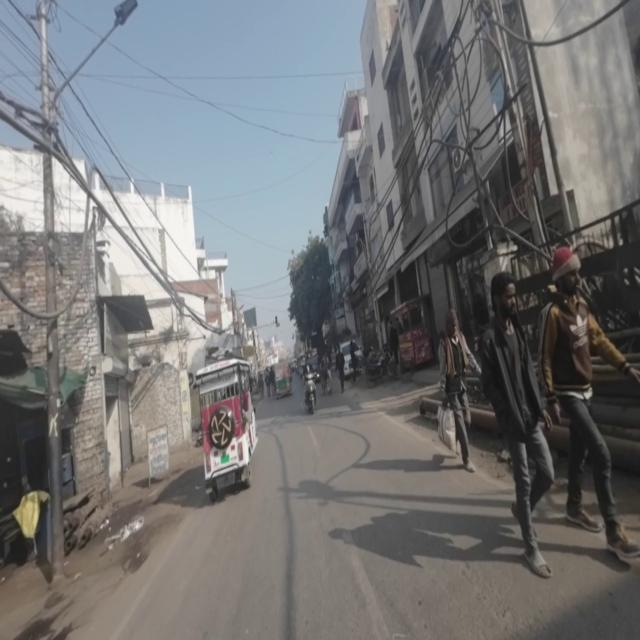Garbage: (104, 515, 147, 547)
